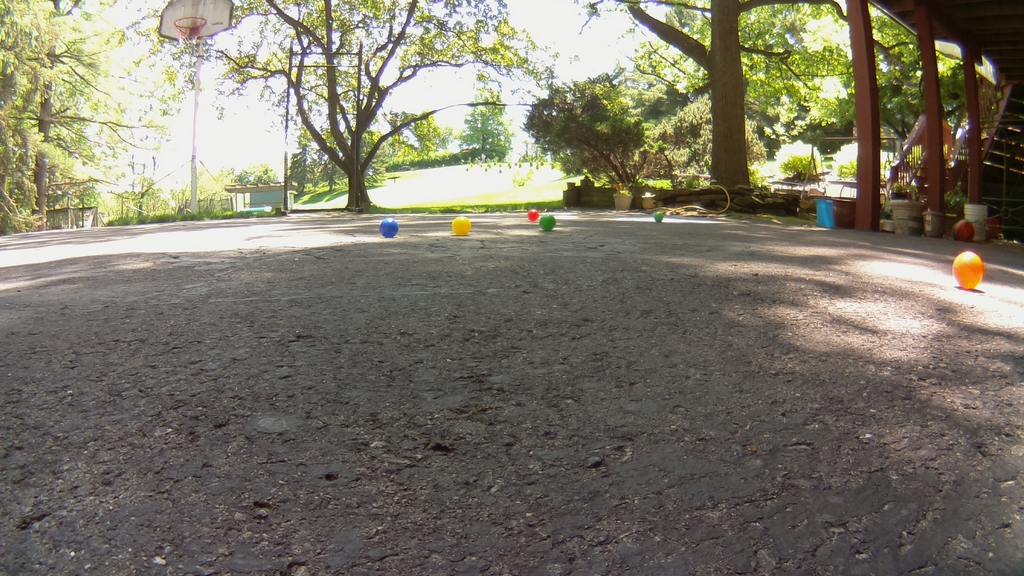ball: (380, 218, 398, 236)
